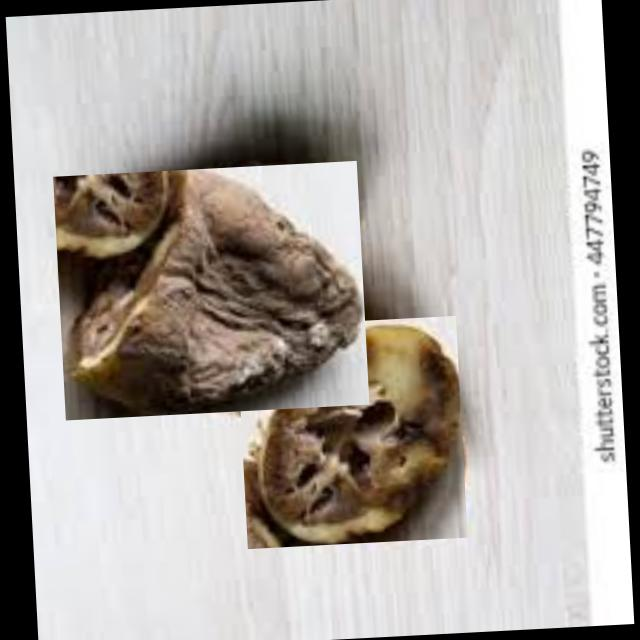Damaged potato: (53, 160, 370, 420), (237, 315, 468, 548)
